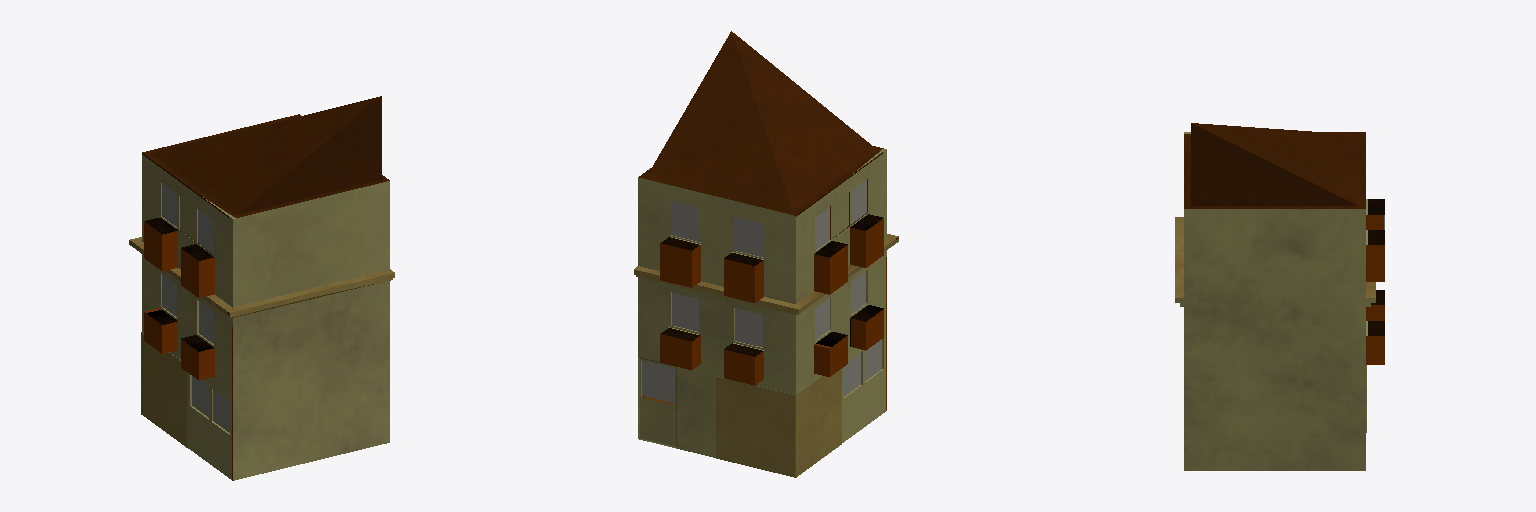
The picture shows the model from 3 angles: view 1: azimuth 30°, elevation 25°; view 2: azimuth 150°, elevation 25°; view 3: azimuth 270°, elevation 25°; orthographic projection.
Visible parts, largest first — view 1: Cube2; view 2: Cube2; view 3: Cube2.
Part boxes in pixels (x1,y1,x2,y2): Cube2: (129,96,394,480); Cube2: (634,31,898,477); Cube2: (1175,123,1384,470).
Bounding box in the file's own units: 11 × 20.94 × 11.5.
1 materials, 1 textured.